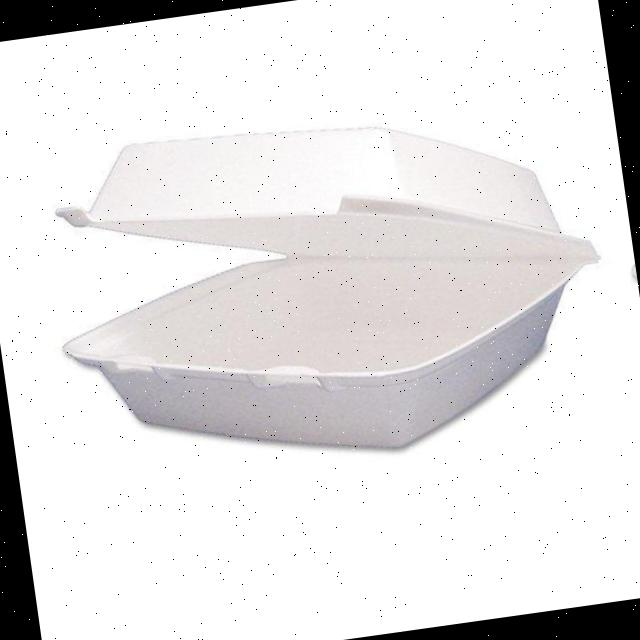styrofoam: (34, 78, 624, 494)
